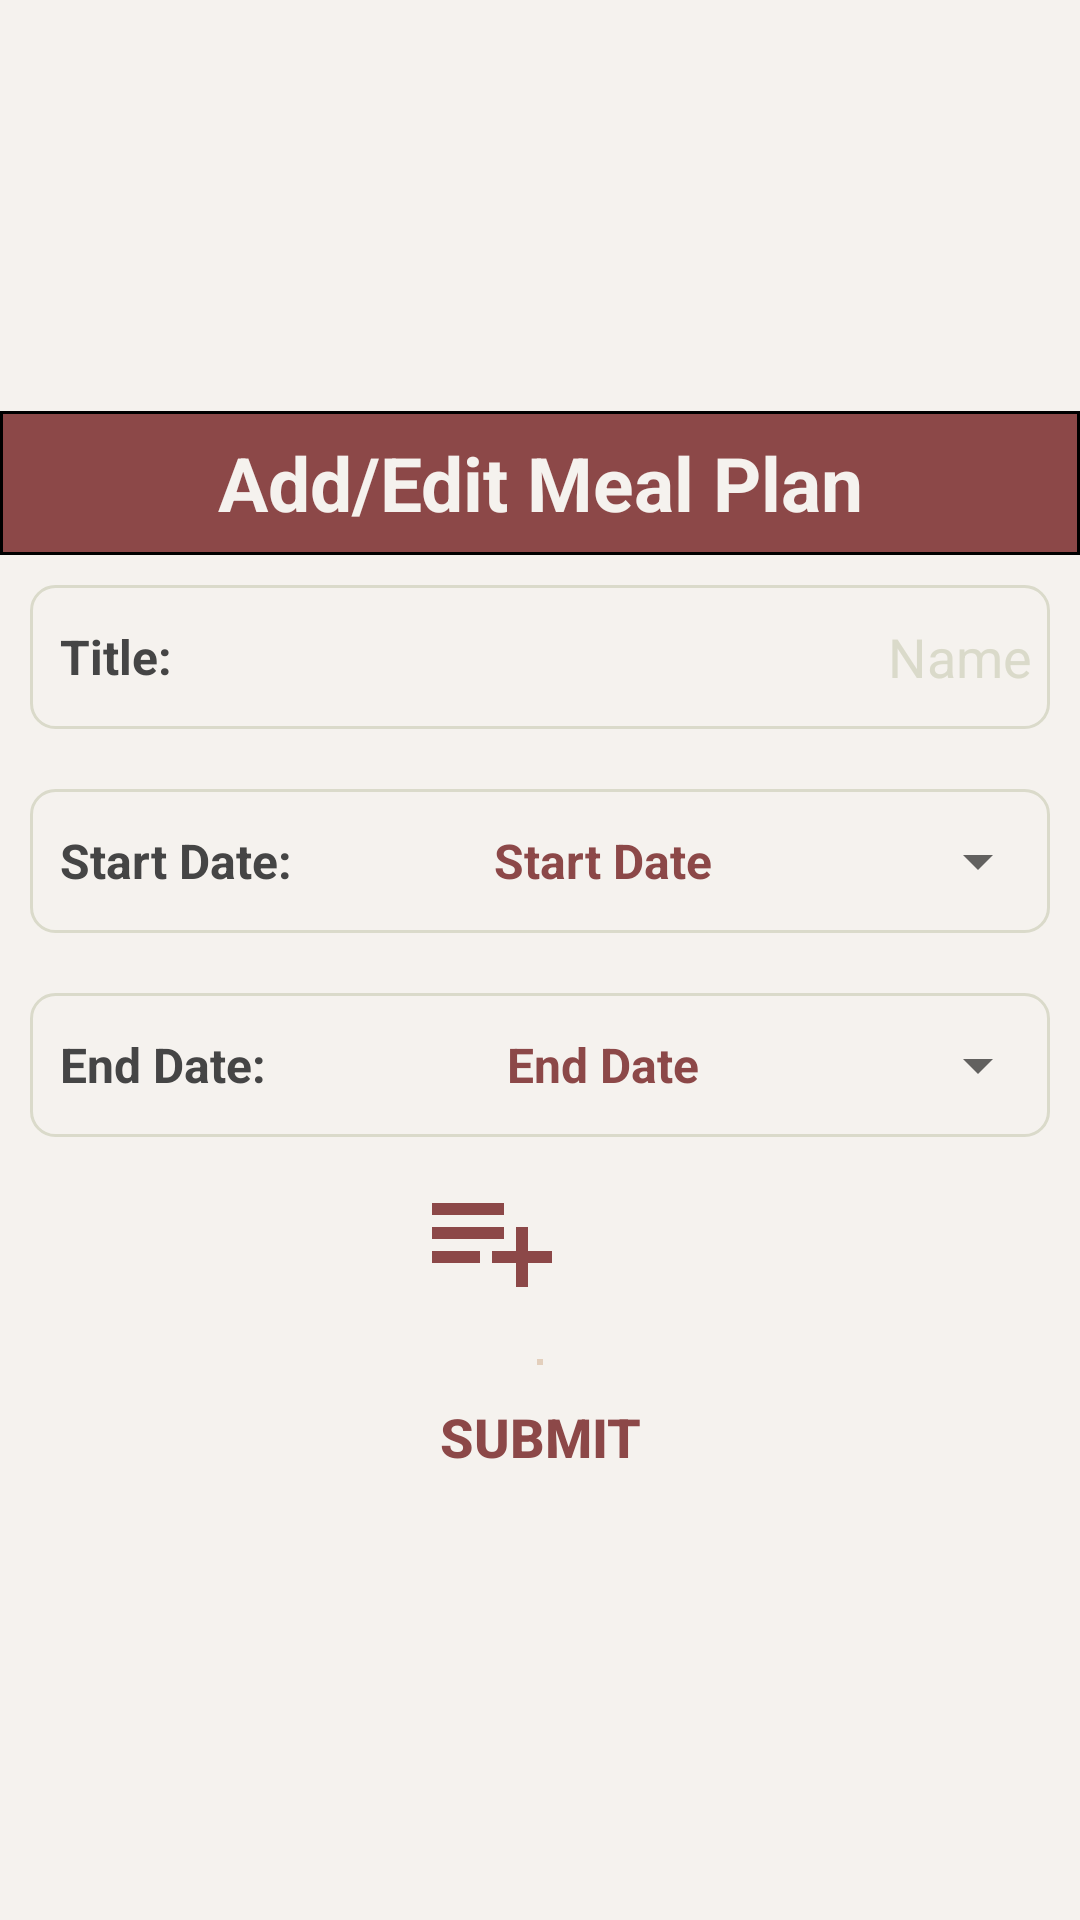

Named icons in this screenshot (1080w x 1920h) and their centers, (x=x, y=y):
Add Recipe/Ingredient to Meal Plan: (x=492, y=1245)
